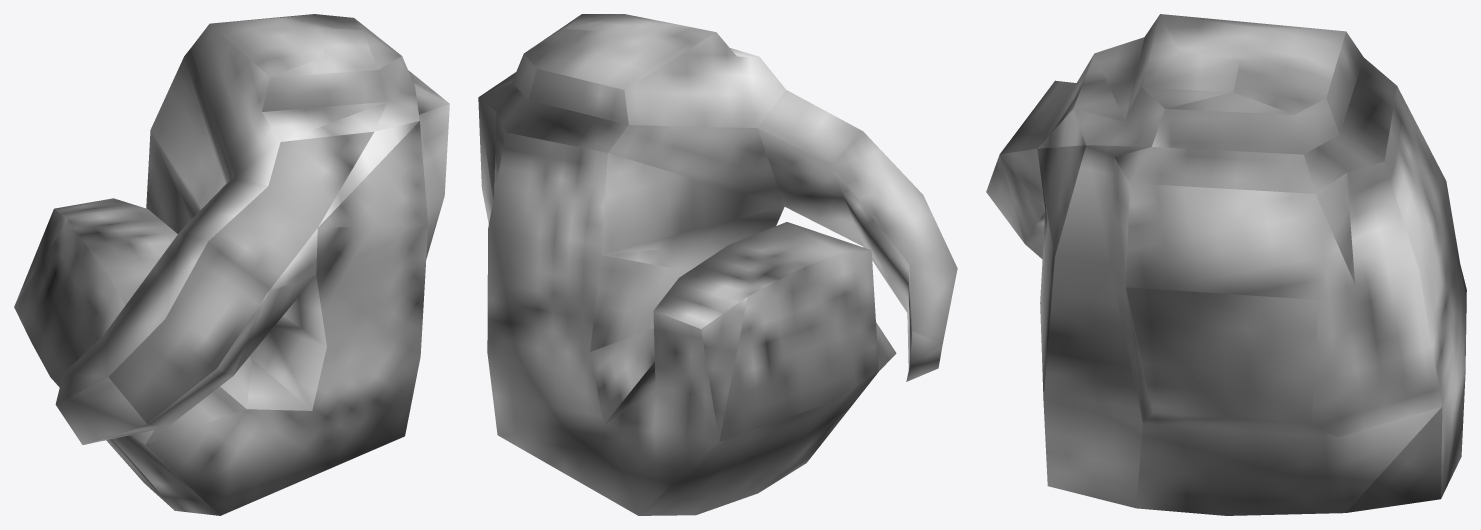
Rendered from l_hand.glb.
3 views of the same model, side by side, from view 1: azimuth 30°, elevation 25°; view 2: azimuth 150°, elevation 25°; view 3: azimuth 270°, elevation 25° (orthographic). The views are drawn at different scales.
Visible parts, largest first — view 1: l_hand; view 2: l_hand; view 3: l_hand.
Boxes of the visible parts, x1,y1,x2,y2 form: l_hand: [14, 14, 449, 515]; l_hand: [478, 14, 957, 515]; l_hand: [986, 14, 1466, 515].
Size of the model in its own units: 0.2809 by 0.2829 by 0.2422.
Materials: 2 (2 with a texture image).
